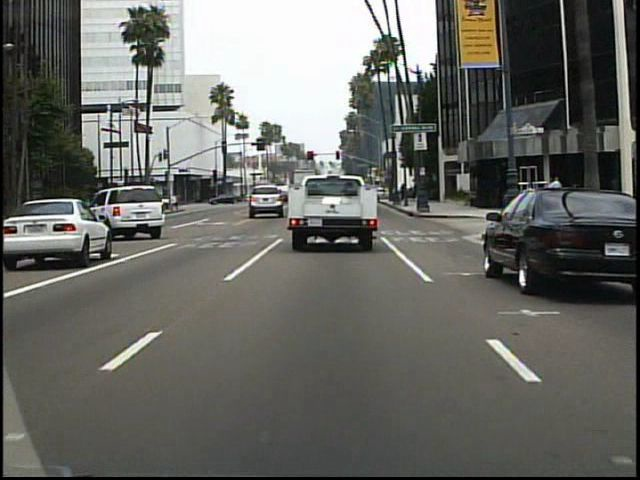person: (548, 174, 565, 213), (176, 189, 179, 214)
